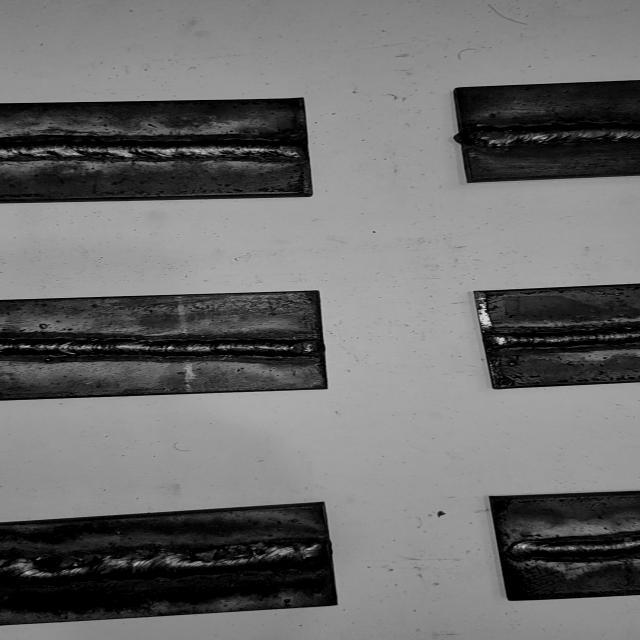Defect: (14, 540, 110, 578), (184, 536, 282, 565)
Welding Line: (0, 540, 334, 588), (0, 336, 322, 362), (0, 138, 313, 162), (463, 122, 640, 148), (482, 322, 640, 350), (507, 534, 640, 561)
Workpiece: (0, 499, 352, 631), (0, 285, 335, 406), (0, 93, 325, 206), (451, 78, 640, 188), (468, 276, 640, 392), (485, 483, 640, 606)
